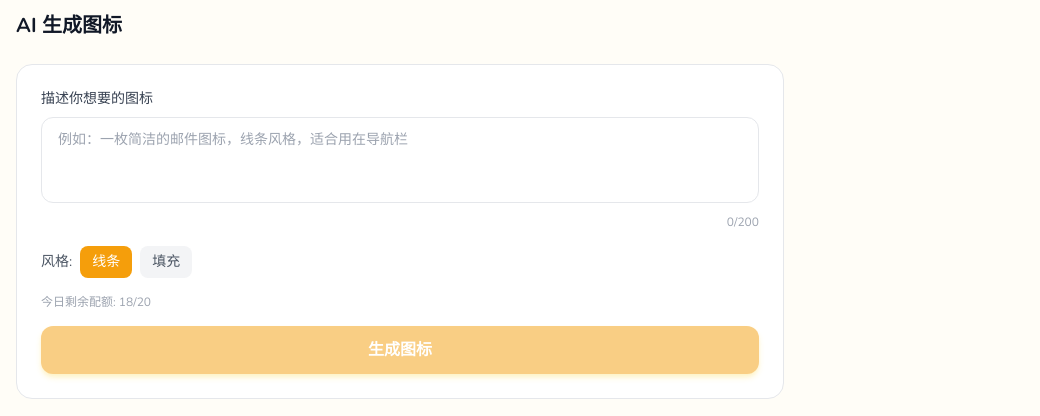
Test: AiGeneratePage › shows error when quota exceeded
This screenshot has width=1040, height=416.
Type "a cat icon" into the text box with placeholder "例如：一枚简洁的邮件图标，线条风格，适合用在导航栏" at (400, 160), box [41,117,759,203]
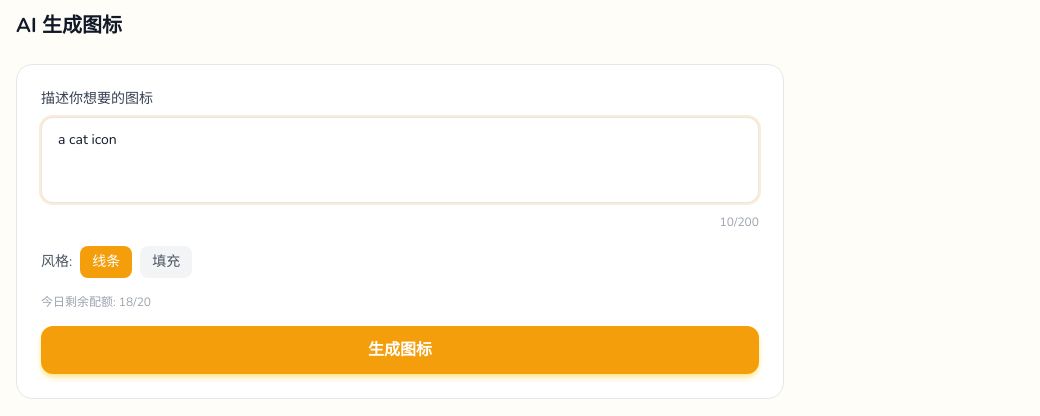
Click the button "生成图标" at (400, 350), box [41,326,759,374]
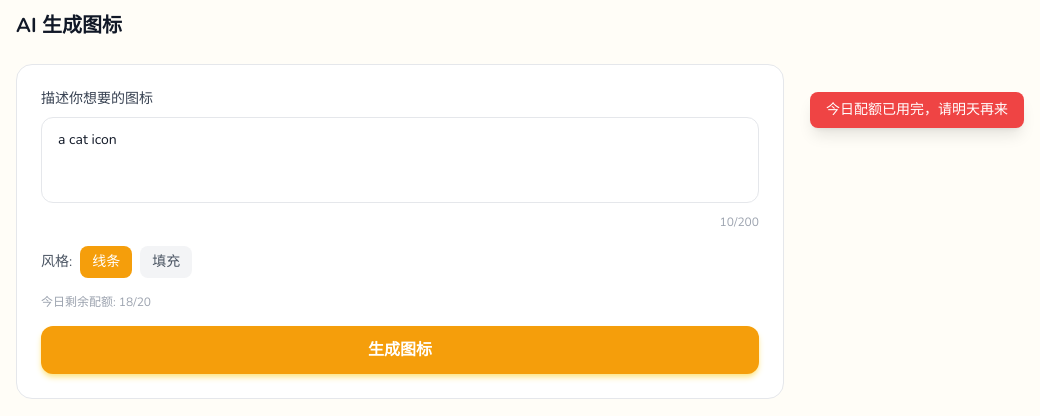
Expected: the text "今日配额已用完，请明天再来" is shown, [810,92,1024,128]
